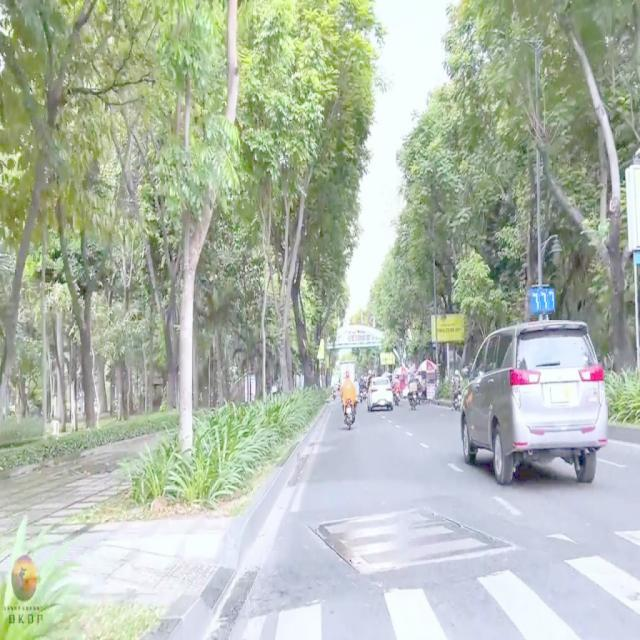huong_di_tren_moi_lan_duong_theo_vach_ke_duong: (528, 289, 554, 315)
